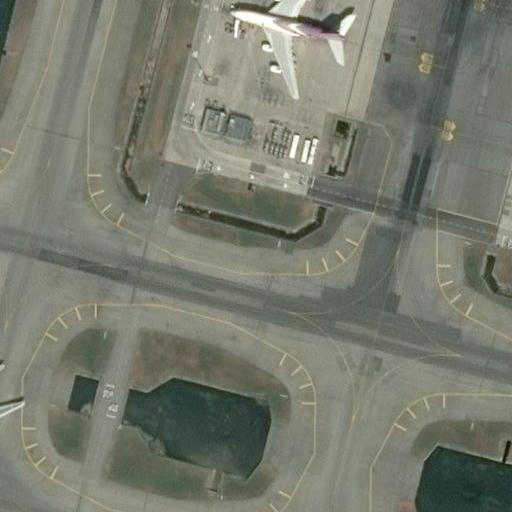Aircraft: (222, 0, 355, 97)
